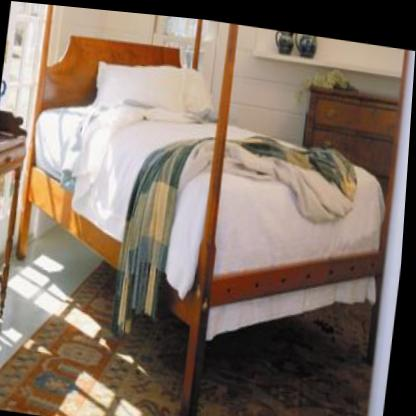Bed: (31, 33, 387, 336)
